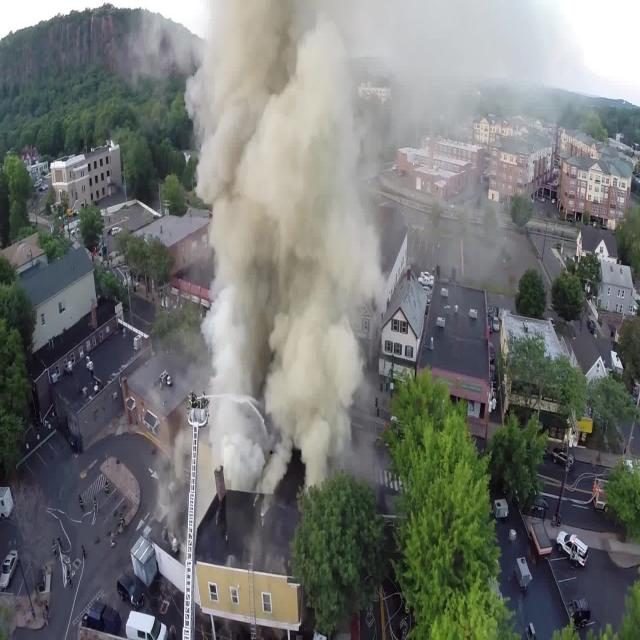Smoke: (193, 0, 387, 523)
